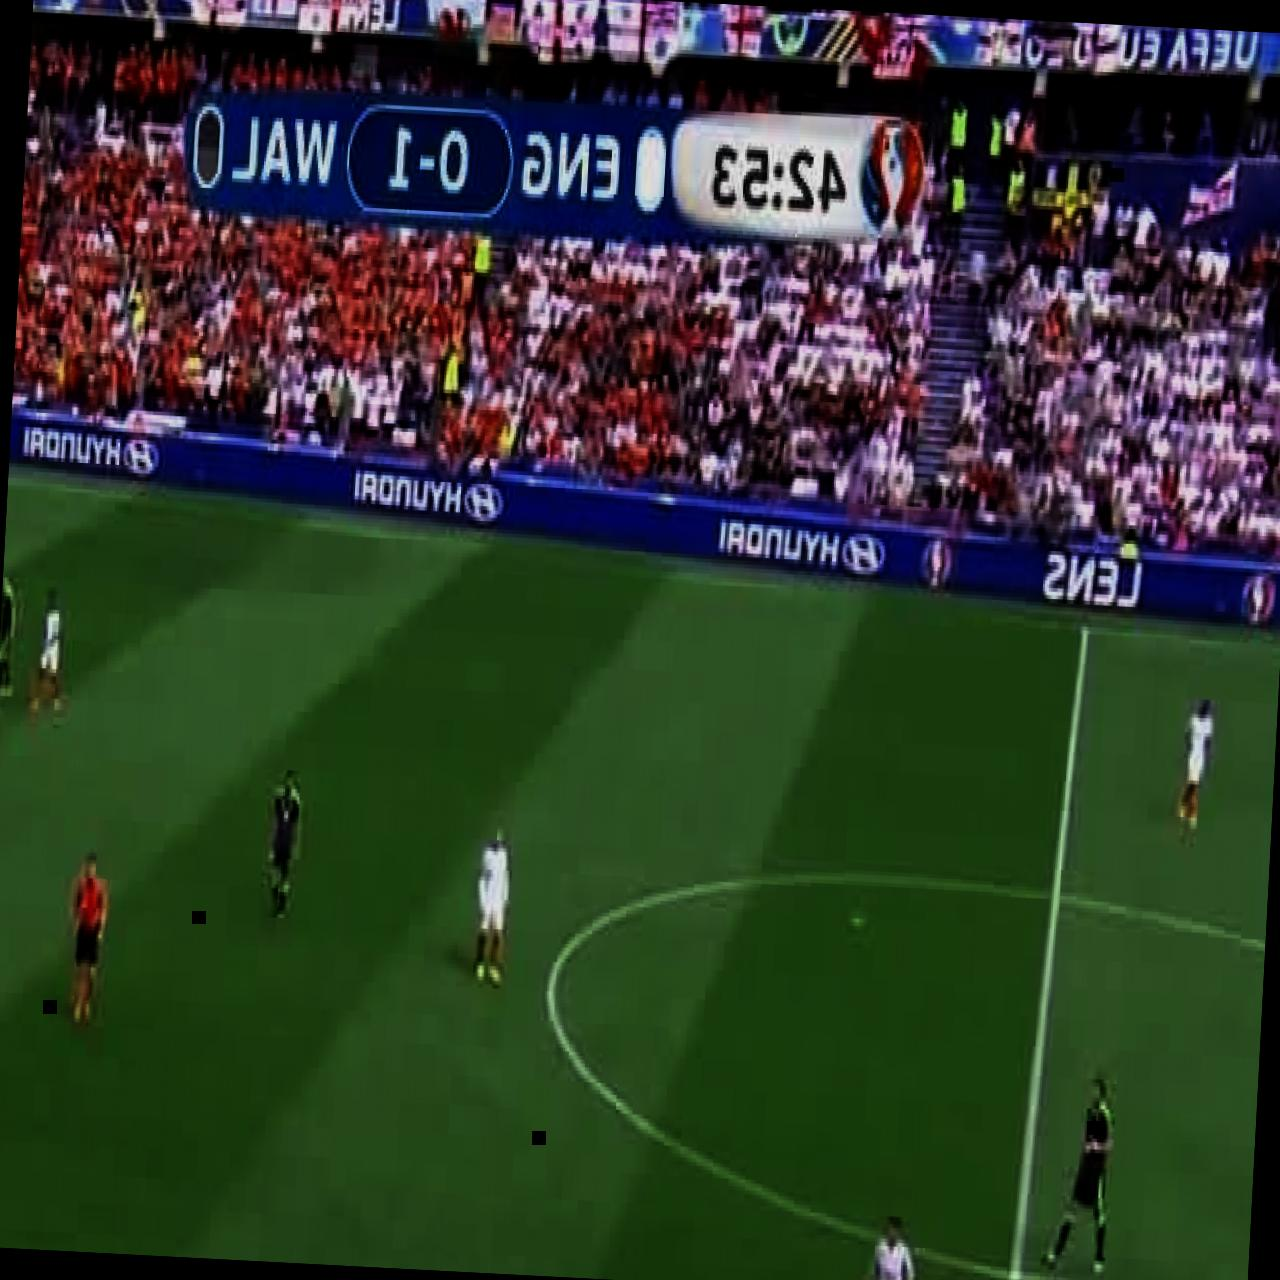football: (1042, 1076, 1116, 1277), (64, 846, 113, 1030), (472, 826, 516, 995), (1173, 686, 1216, 831), (27, 588, 70, 718), (266, 767, 302, 919), (848, 1210, 920, 1280), (0, 569, 21, 699)
